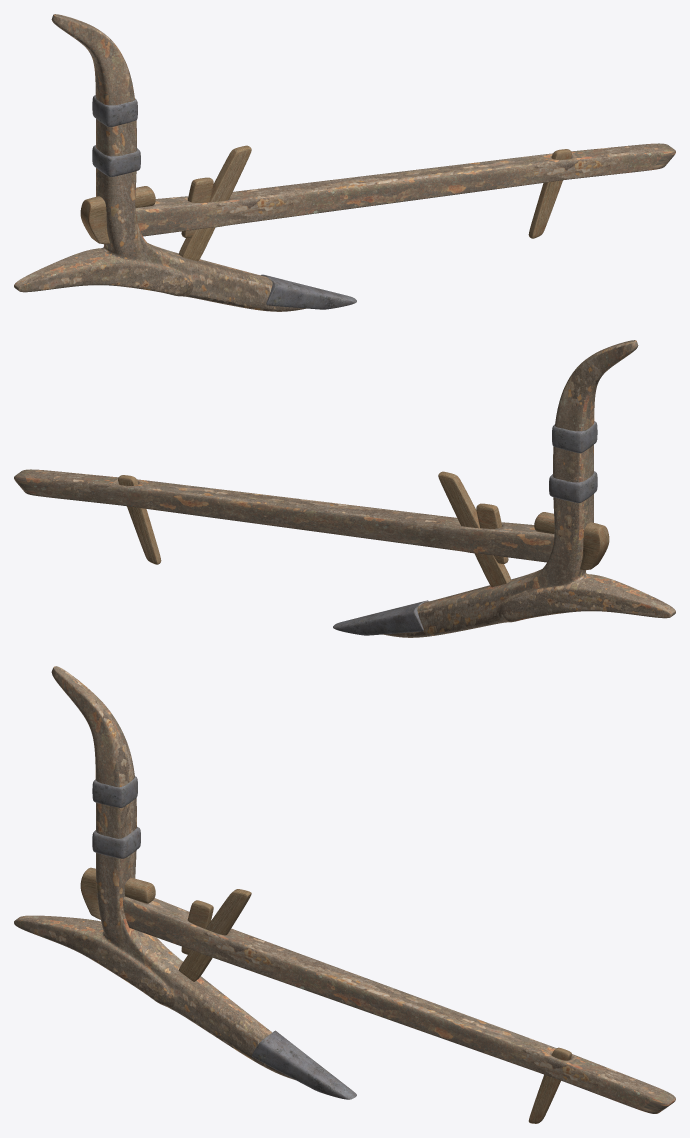
The model's file is arado.fbx.
3 renders of one model, top to bottom at view 1: azimuth 30°, elevation 25°; view 2: azimuth 150°, elevation 25°; view 3: azimuth 330°, elevation 25°, orthographic.
Visible parts, largest first — view 1: timon; view 2: timon; view 3: timon.
Boxes of the visible parts, box(x1,y1,x2,y2) form: timon: box(14, 14, 675, 311); timon: box(14, 340, 675, 637); timon: box(14, 666, 675, 1123).
Size of the model in its own units: 1704 by 890 by 98.37.
